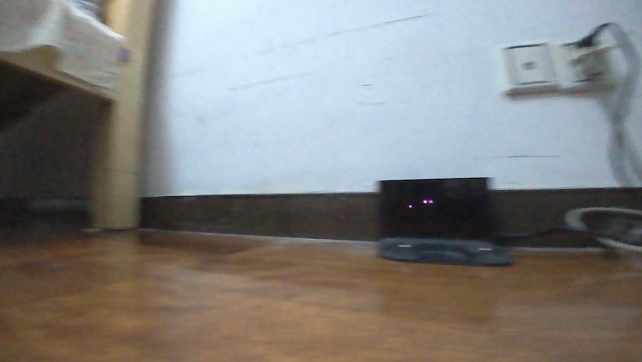charger: (373, 173, 517, 269)
wire: (499, 204, 641, 255)
